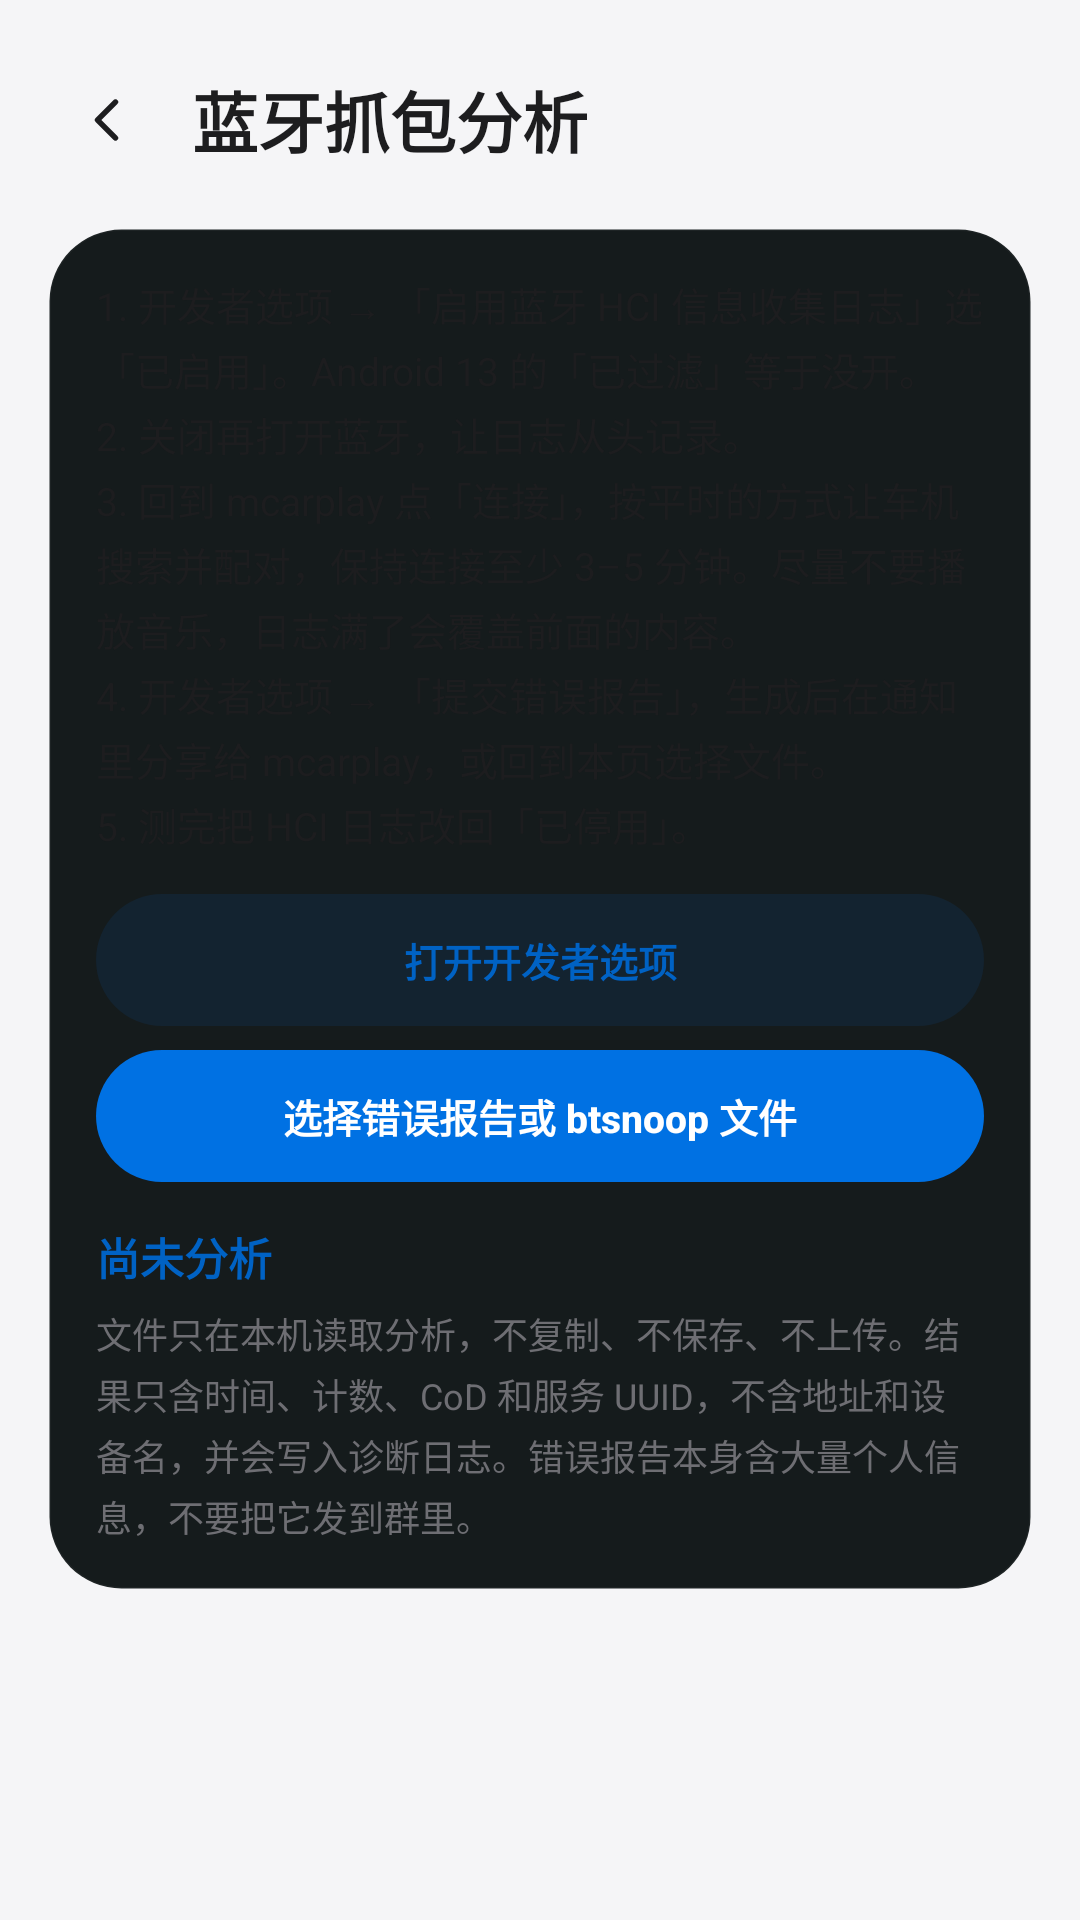

Named icons in this screenshot (1080 x 1920) and their centers, (x,y):
返回连接页面: (106,120)
